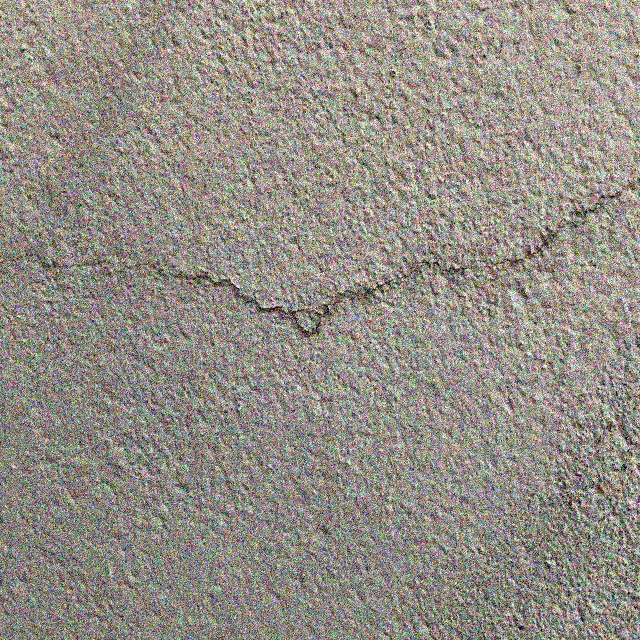SurfaceCrack: (0, 157, 639, 364)
